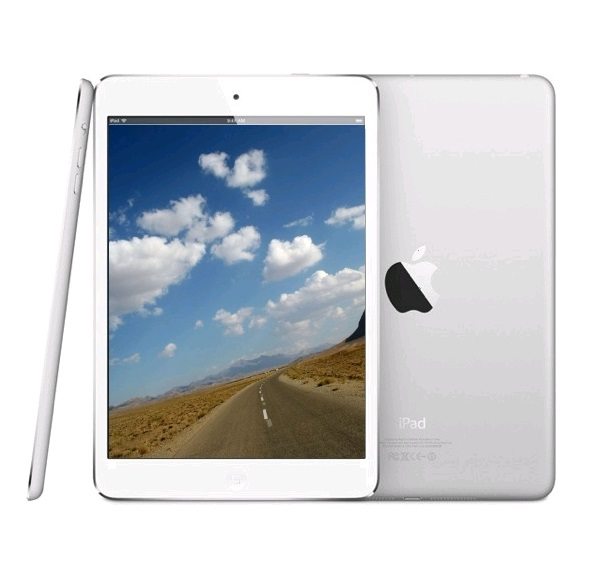Apple: (378, 241, 457, 323), (390, 406, 435, 437)
